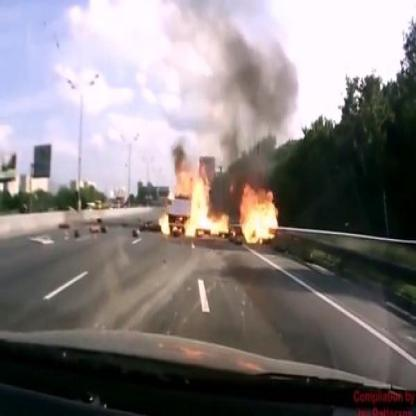fire: (156, 150, 278, 251)
